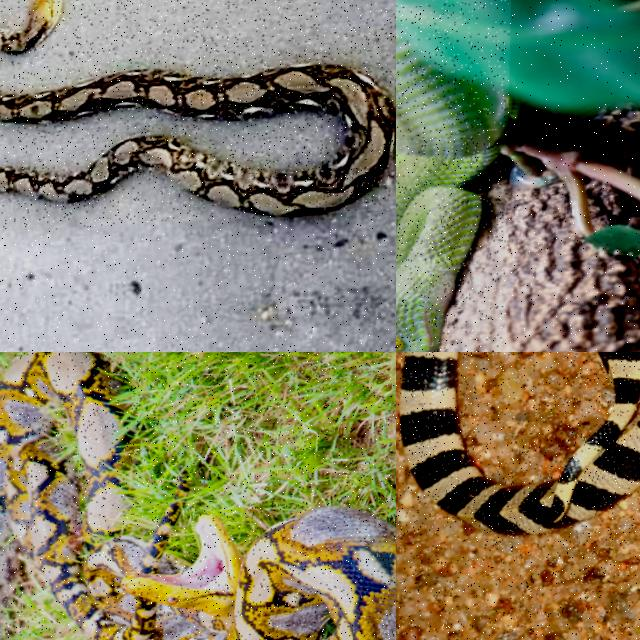Bungarus fasciatus: (400, 352, 639, 530)
Malayopython reticulatus: (0, 352, 395, 639), (0, 63, 395, 216)
Trimeresurus macrops: (396, 28, 507, 351)
